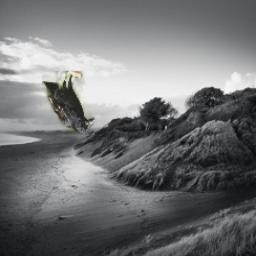Crow: (42, 72, 94, 135)
